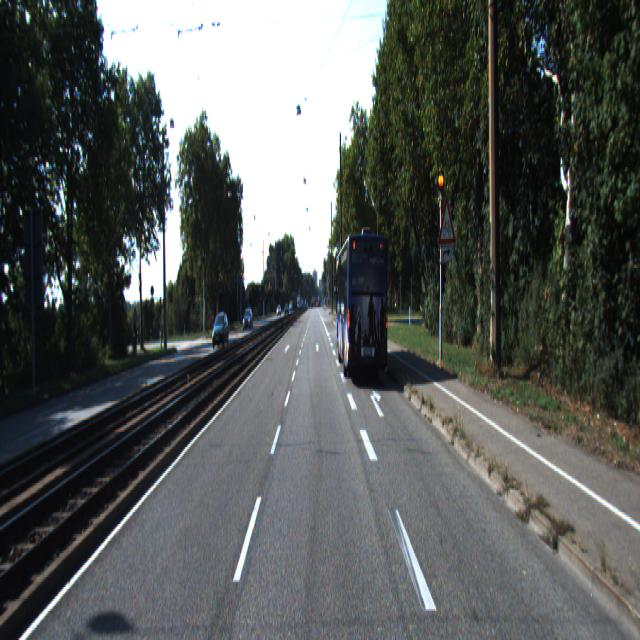Car: (211, 313, 230, 349)
DontCare: (297, 295, 321, 310), (275, 302, 292, 317), (242, 308, 252, 329)
Truck: (335, 225, 391, 380)
